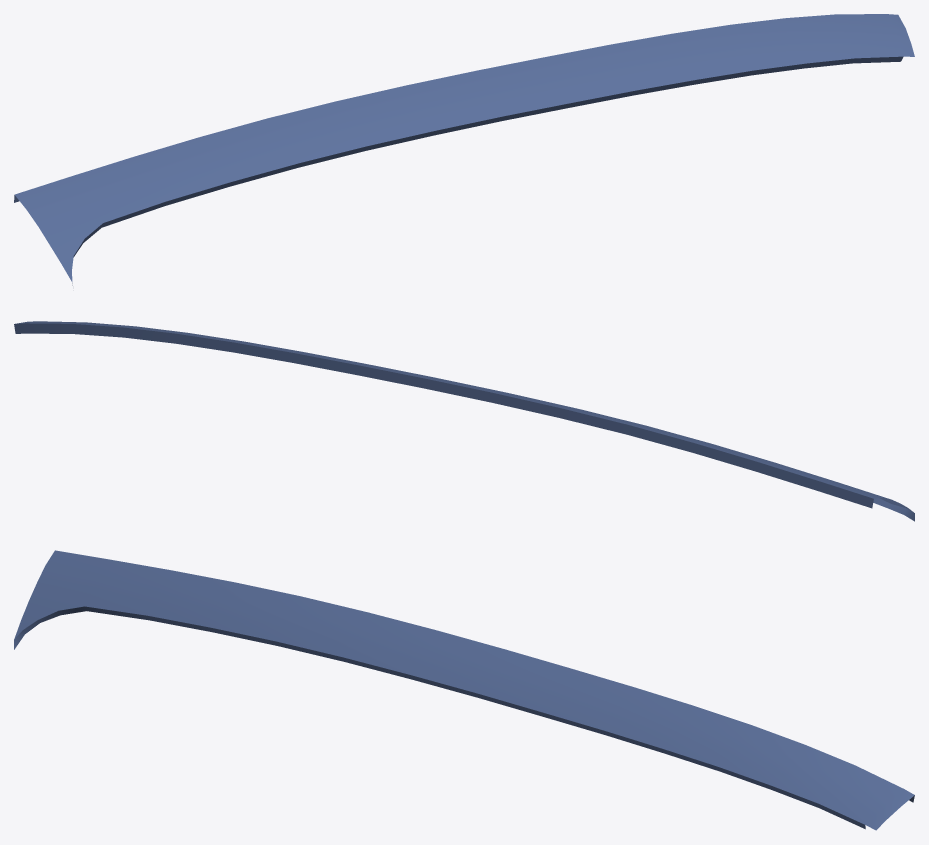
3 renders of one model, top to bottom at view 1: azimuth 30°, elevation 25°; view 2: azimuth 150°, elevation 25°; view 3: azimuth 330°, elevation 25°, orthographic. The views are drawn at different scales.
Visible parts, largest first — view 1: U236_17_18A5_R_1_DaS_U236_17_18A5_R, U236_17_18A5_R_1_DaS_U236_17_18A5_R_E; view 2: U236_17_18A5_R_1_DaS_U236_17_18A5_R_E, U236_17_18A5_R_1_DaS_U236_17_18A5_R; view 3: U236_17_18A5_R_1_DaS_U236_17_18A5_R, U236_17_18A5_R_1_DaS_U236_17_18A5_R_E.
Boxes of the visible parts, x1,y1,x2,y2 form: U236_17_18A5_R_1_DaS_U236_17_18A5_R: [15, 14, 914, 281]; U236_17_18A5_R_1_DaS_U236_17_18A5_R_E: [14, 56, 903, 285]; U236_17_18A5_R_1_DaS_U236_17_18A5_R_E: [14, 323, 914, 521]; U236_17_18A5_R_1_DaS_U236_17_18A5_R: [15, 321, 913, 512]; U236_17_18A5_R_1_DaS_U236_17_18A5_R: [14, 550, 914, 830]; U236_17_18A5_R_1_DaS_U236_17_18A5_R_E: [14, 606, 914, 829].
Size of the model in its own units: 88.87 by 7.48 by 9.12.
